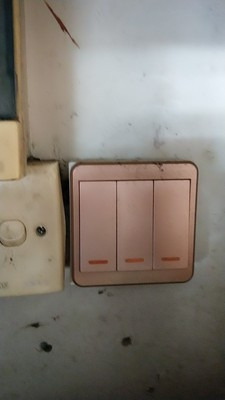switch: (80, 179, 117, 274), (155, 183, 188, 274), (120, 179, 148, 274), (2, 217, 31, 253)
